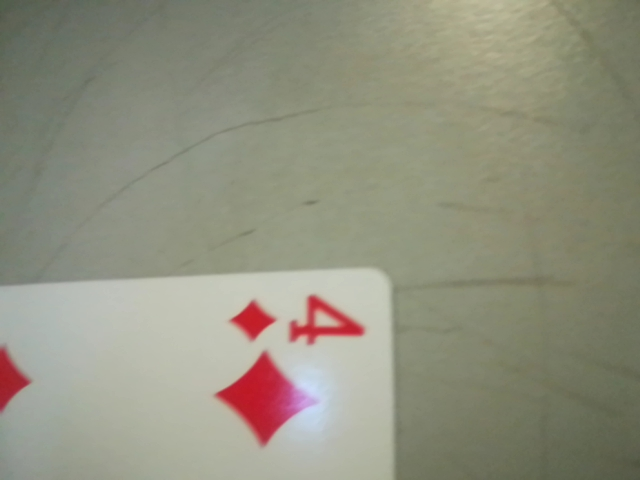fk 4: (227, 290, 374, 354)
